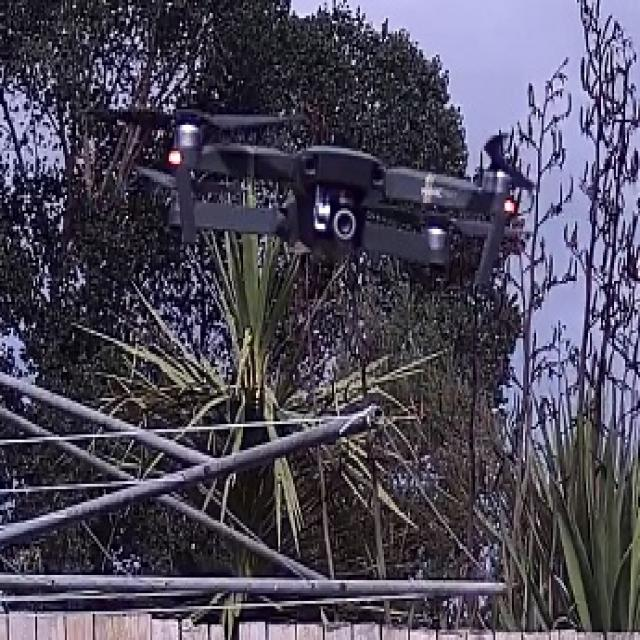drone: (77, 22, 541, 316)
